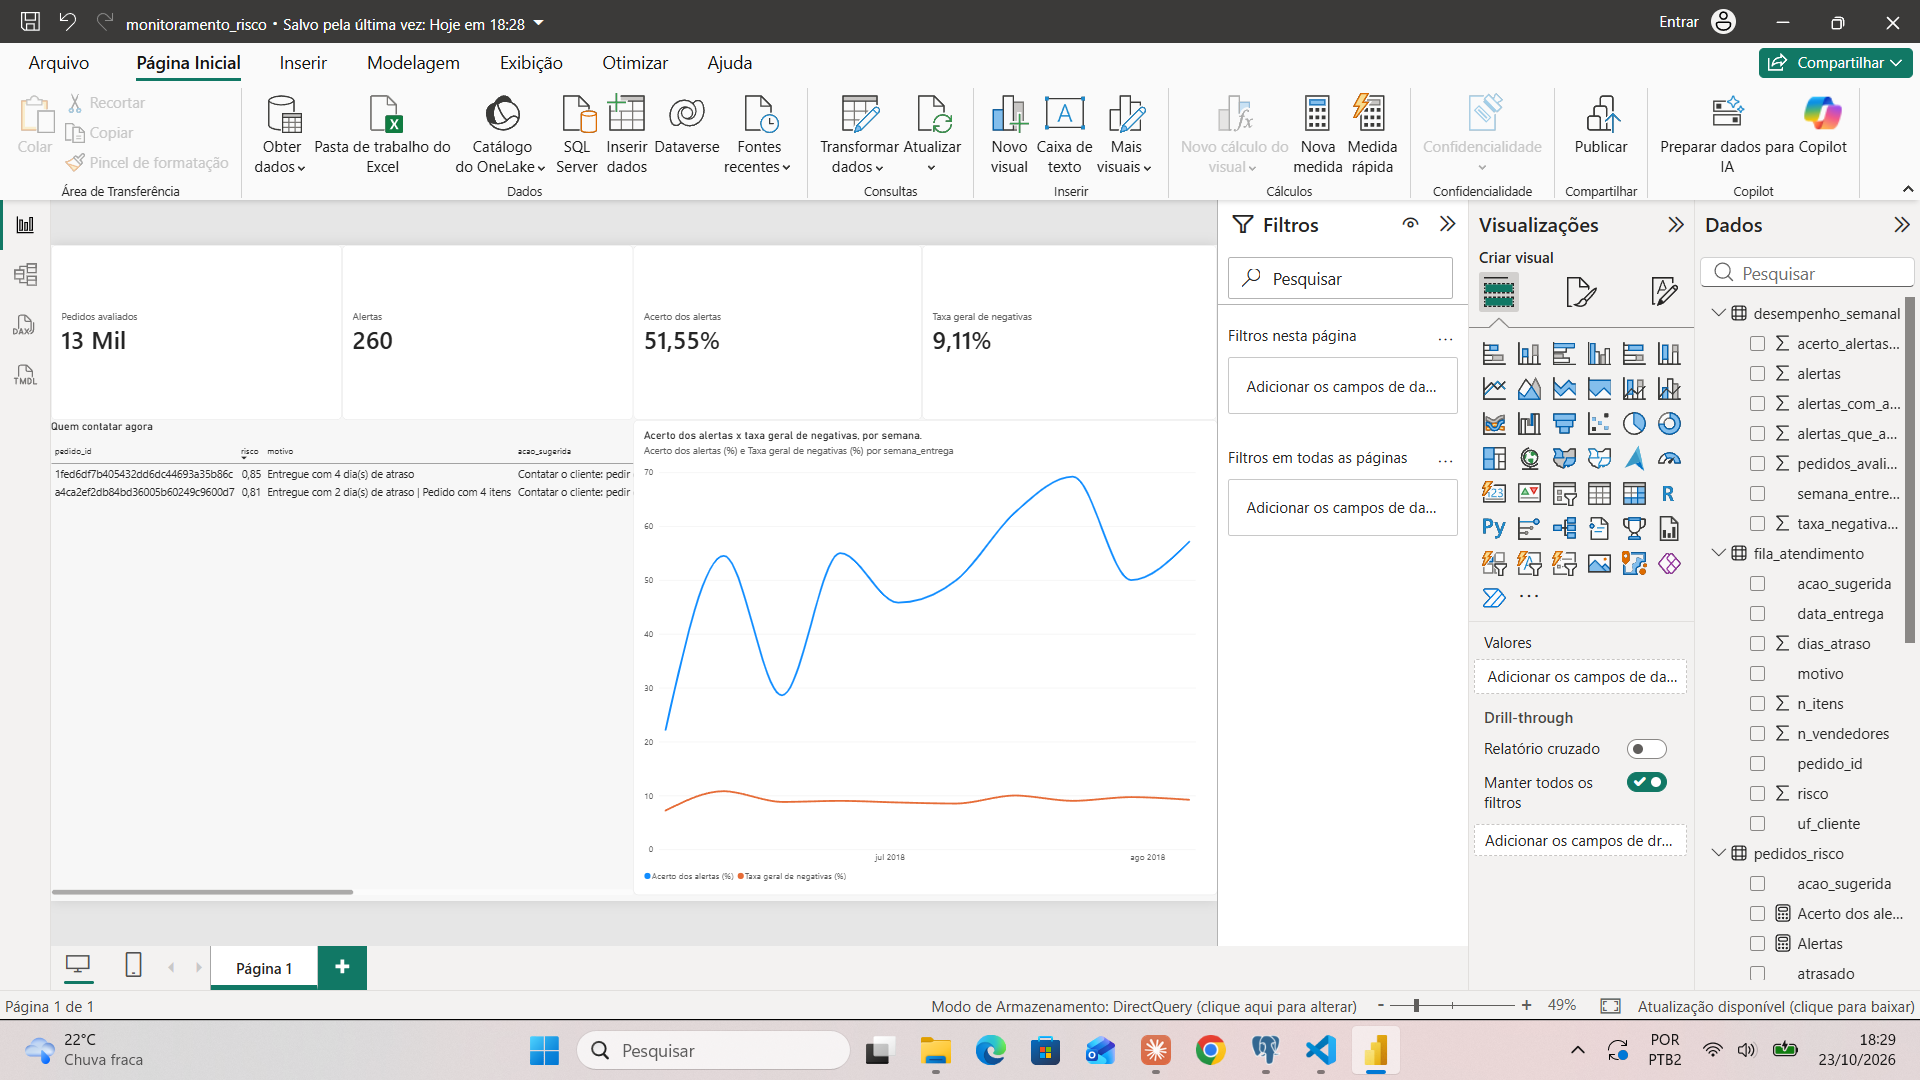

The page's visual inventory and layout, read from the dashboard file:
{"tool":"powerbi","page":{"name":"Página 1","canvas":[1920,1080],"ordinal":0},"visuals":[{"type":"cardVisual","fields":{"Data":["pedidos_risco.Pedidos avaliados"]},"box":[0,0,479.6,288.2],"z":0},{"type":"cardVisual","fields":{"Data":["pedidos_risco.Acerto dos alertas"]},"box":[959.2,0,475.5,288.2],"z":1000},{"type":"cardVisual","fields":{"Data":["pedidos_risco.Taxa geral de negativas"]},"box":[1434.7,0,485.8,288.2],"z":2000},{"type":"cardVisual","fields":{"Data":["pedidos_risco.Alertas"]},"box":[479.6,0,479.6,288.2],"z":3000},{"type":"tableEx","title":"Quem contatar agora","fields":{"Values":["fila_atendimento.pedido_id","fila_atendimento.risco","fila_atendimento.motivo","fila_atendimento.acao_sugerida","fila_atendimento.data_entrega"]},"box":[0,288.2,959.2,782.2],"z":4000},{"type":"lineChart","title":"Acerto dos alertas x taxa geral de negativas, por semana.","fields":{"Category":["desempenho_semanal.semana_entrega"],"Y":["Sum(desempenho_semanal.acerto_alertas_pct)","Sum(desempenho_semanal.taxa_negativas_geral_pct)"]},"box":[959.2,288.2,961.2,782.2],"z":5000}]}

Visuals, with their boxes on the page's 1920x1080 design canvas (x1, y1, x2, y2). These are canvas units, not pixel positions in the 1920x1080 screenshot, which may show the page scaled, cropped or inside an application window:
cardVisual - pedidos_risco.Pedidos avaliados: bbox=[0, 0, 480, 288]
cardVisual - pedidos_risco.Acerto dos alertas: bbox=[959, 0, 1435, 288]
cardVisual - pedidos_risco.Taxa geral de negativas: bbox=[1435, 0, 1920, 288]
cardVisual - pedidos_risco.Alertas: bbox=[480, 0, 959, 288]
"Quem contatar agora" tableEx: bbox=[0, 288, 959, 1070]
"Acerto dos alertas x taxa geral de negativas, por semana." lineChart: bbox=[959, 288, 1920, 1070]
